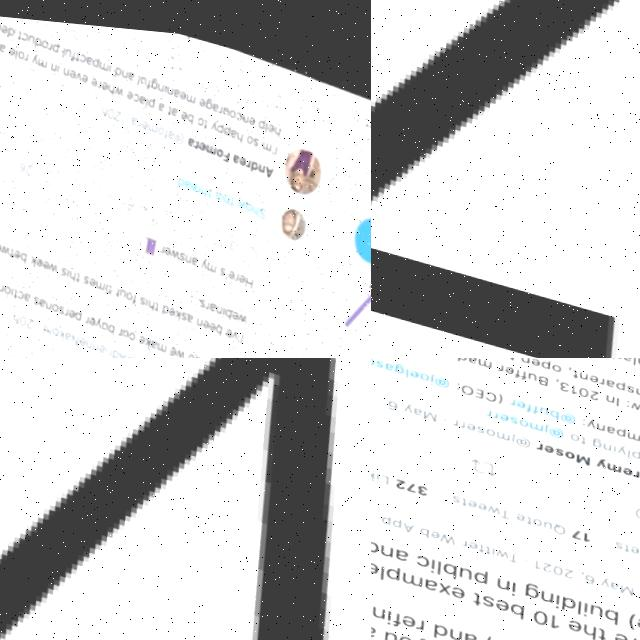0: (105, 102, 116, 117), (10, 312, 21, 326)
2: (571, 564, 584, 577), (377, 394, 390, 407), (17, 314, 29, 328), (111, 105, 120, 119), (21, 161, 30, 173)
3: (559, 519, 572, 532), (394, 475, 407, 488), (222, 232, 233, 245)
4: (121, 197, 132, 209)
6: (15, 159, 24, 171)
A: (448, 625, 465, 640), (382, 543, 399, 558), (411, 572, 427, 587), (622, 627, 639, 640), (390, 516, 403, 529), (403, 400, 415, 411), (597, 368, 609, 379), (597, 571, 607, 581), (375, 358, 387, 366), (598, 415, 607, 424), (636, 378, 640, 389)
B: (589, 598, 608, 617), (495, 594, 513, 613), (428, 556, 447, 574), (406, 520, 419, 533), (529, 366, 542, 379), (541, 401, 551, 411)
C: (403, 550, 420, 563), (475, 382, 490, 395)
D: (418, 617, 436, 635), (547, 587, 565, 605), (476, 632, 494, 640)
E: (552, 609, 571, 625), (387, 608, 403, 623), (599, 623, 615, 636), (482, 592, 498, 605), (437, 580, 453, 593), (623, 608, 639, 621), (464, 380, 477, 392), (418, 523, 430, 534), (628, 537, 640, 548), (618, 535, 630, 546), (612, 456, 624, 467), (581, 364, 593, 375), (629, 460, 640, 471), (491, 405, 501, 415), (402, 363, 412, 373), (457, 534, 466, 544), (467, 495, 477, 504), (457, 492, 467, 501), (535, 436, 545, 445), (508, 391, 517, 401), (505, 505, 514, 514), (458, 416, 467, 424), (633, 442, 640, 451), (498, 359, 507, 366)
F: (376, 606, 390, 624), (522, 395, 531, 407), (516, 393, 525, 405), (512, 362, 521, 373), (507, 361, 514, 371)
G: (511, 573, 529, 592), (582, 427, 595, 440), (385, 358, 398, 369)
H: (568, 614, 584, 632)
I: (372, 605, 380, 621), (541, 586, 549, 602), (417, 552, 425, 568), (569, 593, 576, 609), (498, 574, 505, 589), (603, 435, 609, 446), (479, 540, 485, 550), (607, 387, 612, 397)
J: (533, 413, 541, 428), (421, 366, 428, 380), (501, 426, 507, 438)
L: (563, 592, 570, 606), (423, 555, 430, 569), (371, 468, 379, 480), (617, 439, 623, 450), (636, 611, 640, 627), (397, 362, 402, 372), (371, 560, 373, 575)
M: (388, 566, 411, 582), (565, 443, 583, 458), (413, 403, 430, 417), (606, 574, 623, 587), (617, 419, 633, 432), (596, 452, 613, 464), (487, 424, 503, 434), (520, 413, 536, 423), (469, 358, 484, 361)
N: (526, 582, 542, 596), (434, 622, 451, 635), (483, 571, 498, 584), (371, 540, 382, 553), (587, 412, 597, 422), (571, 362, 581, 372), (598, 385, 608, 394), (594, 432, 603, 442), (628, 378, 637, 385), (492, 637, 508, 640)
O: (452, 377, 468, 390), (382, 629, 400, 640), (520, 509, 532, 520), (476, 420, 488, 431), (554, 441, 566, 452), (509, 409, 521, 420), (411, 366, 423, 376), (561, 424, 572, 433), (632, 424, 640, 434), (635, 394, 640, 405), (544, 358, 553, 364)
P: (458, 559, 477, 578), (373, 559, 389, 577), (606, 415, 619, 428), (622, 438, 633, 450), (380, 512, 391, 524), (371, 509, 380, 520), (609, 371, 618, 380), (533, 358, 544, 361)
Q: (541, 514, 556, 527)
R: (401, 613, 412, 625), (614, 626, 625, 638), (623, 459, 631, 469), (527, 433, 535, 443), (450, 414, 457, 422), (442, 413, 450, 420), (484, 403, 491, 411), (501, 390, 508, 398), (449, 533, 456, 540), (477, 402, 484, 409), (591, 368, 598, 375), (489, 358, 497, 363)
S: (468, 587, 483, 601), (466, 417, 478, 428), (545, 438, 555, 448), (501, 407, 511, 417), (618, 374, 628, 384), (602, 531, 612, 540), (441, 489, 450, 498), (371, 358, 378, 364)
T: (583, 618, 595, 634), (458, 585, 470, 601), (495, 544, 508, 557), (488, 500, 501, 513), (570, 426, 579, 437), (466, 537, 474, 547), (514, 508, 522, 518), (450, 491, 458, 501), (473, 539, 481, 548), (611, 534, 619, 543), (565, 360, 572, 370)
U: (575, 595, 591, 608), (446, 561, 462, 574), (371, 626, 385, 639), (529, 397, 541, 408), (532, 512, 541, 522), (520, 364, 529, 374)
V: (0, 358, 371, 640)
W: (427, 525, 446, 540), (483, 540, 499, 553), (475, 496, 491, 508), (623, 391, 637, 402)
X: (424, 576, 440, 589)
Y: (396, 629, 415, 640), (585, 447, 598, 460), (393, 396, 406, 408), (588, 567, 599, 578), (608, 434, 619, 445), (578, 408, 589, 419)
Z: (371, 0, 640, 358)
